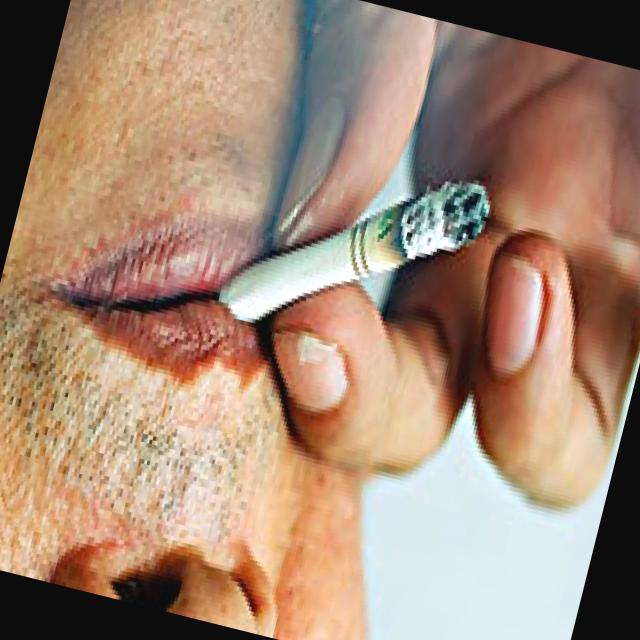smoke: (348, 151, 496, 319)
